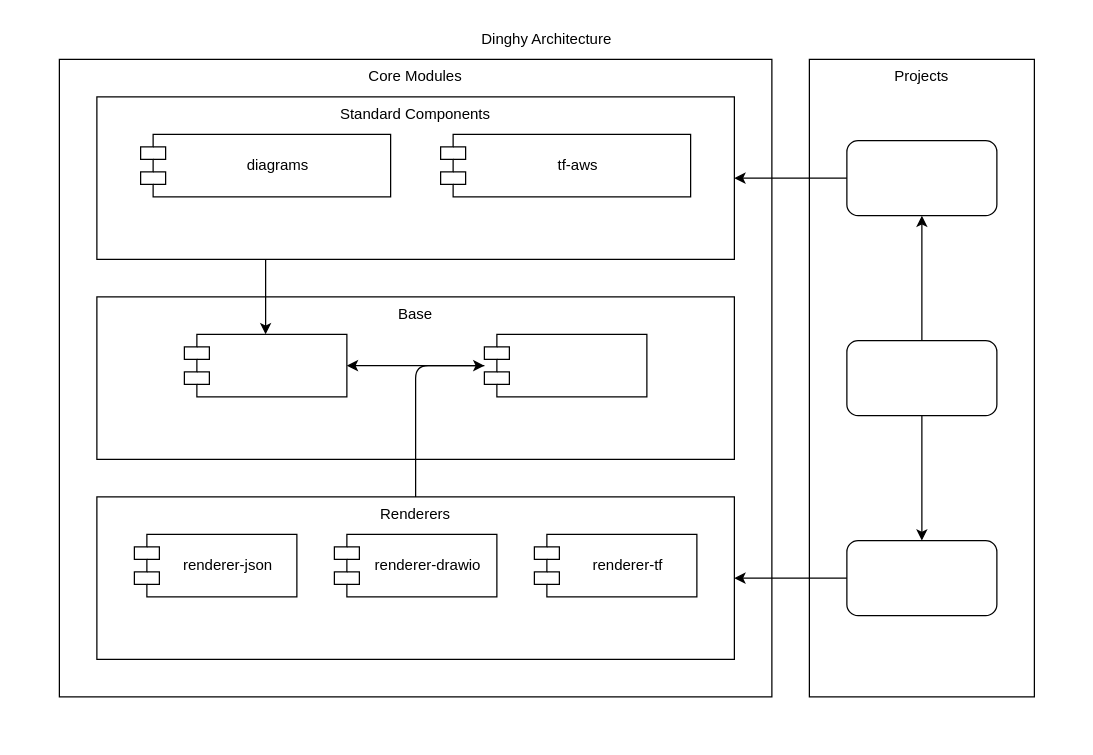
Some shapes in this 1093 by 755 pixel diagram are drawn without their labels. The shapes that lost their labels are listed below. From the top down, each one's centre as x and y in pixels, then its label:
At point (921, 177): "project / examples".
At point (265, 365): "base-components".
At point (565, 365): "base-renderer".
At point (921, 377): "cli".
At point (921, 577): "engine".
